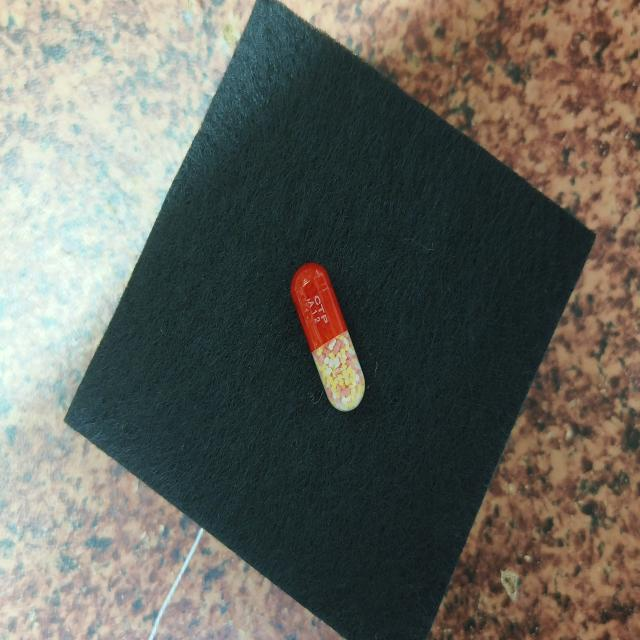Intact Capsule: (291, 263, 365, 412)
